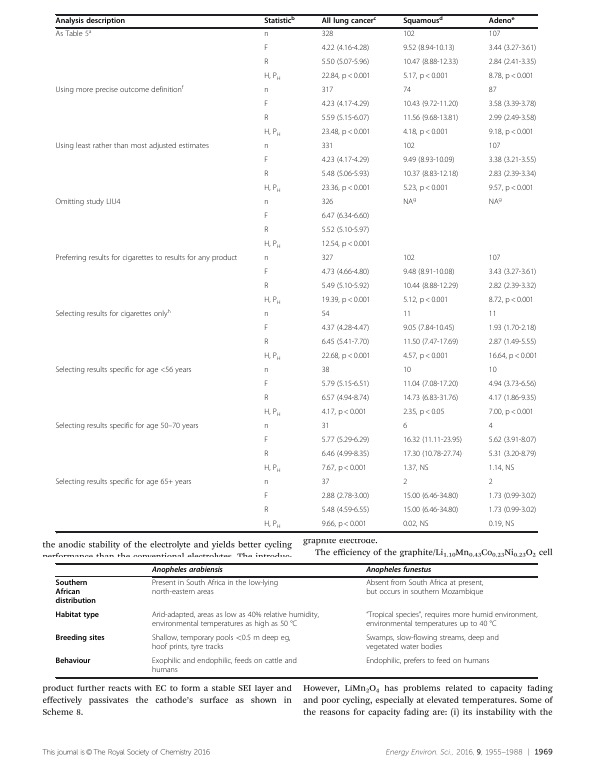borderless: (54, 13, 537, 531), (54, 562, 537, 677)
cell: (365, 611, 538, 630), (151, 611, 320, 630), (151, 657, 298, 676), (151, 634, 291, 653), (365, 634, 500, 653), (151, 579, 279, 598), (365, 579, 484, 598), (55, 254, 238, 264), (55, 142, 210, 152), (55, 84, 184, 96), (55, 422, 199, 432), (55, 308, 172, 320), (55, 366, 192, 376), (55, 478, 192, 488), (365, 657, 490, 667), (54, 579, 97, 607), (55, 198, 121, 208), (151, 566, 224, 575), (55, 17, 126, 26), (321, 15, 377, 26), (402, 436, 463, 446), (402, 450, 463, 460), (365, 566, 432, 575), (402, 58, 459, 68), (402, 100, 459, 110), (402, 114, 459, 124), (402, 170, 459, 180), (402, 282, 459, 292), (402, 338, 459, 348), (402, 380, 459, 390), (402, 394, 459, 404), (402, 492, 459, 502), (402, 506, 459, 516), (402, 44, 455, 54), (402, 156, 455, 166), (402, 268, 455, 278), (402, 324, 455, 334), (54, 634, 106, 644), (321, 72, 371, 82), (321, 128, 371, 138), (321, 184, 371, 194), (321, 240, 371, 250), (321, 296, 371, 306), (321, 352, 371, 362), (488, 352, 538, 362), (321, 44, 370, 54), (488, 44, 537, 54), (321, 58, 370, 68), (488, 58, 537, 68), (321, 100, 370, 110), (488, 100, 537, 110), (321, 114, 370, 124), (488, 114, 537, 124), (321, 156, 370, 166), (488, 156, 537, 166), (321, 170, 370, 180), (488, 170, 537, 180), (321, 212, 370, 222), (321, 226, 370, 236), (321, 268, 370, 278), (488, 268, 537, 278), (321, 282, 370, 292), (488, 282, 537, 292), (321, 324, 370, 334), (488, 324, 537, 334), (321, 338, 370, 348), (488, 338, 537, 348), (321, 380, 370, 390), (488, 380, 537, 390), (321, 394, 370, 404), (488, 394, 537, 404), (321, 436, 370, 446), (488, 436, 537, 446), (321, 450, 370, 460), (488, 450, 537, 460), (321, 492, 370, 502), (488, 492, 537, 502), (321, 506, 370, 516), (488, 506, 537, 516), (402, 72, 449, 82), (488, 72, 535, 82), (402, 128, 449, 138), (488, 128, 535, 138), (402, 184, 449, 194), (488, 184, 535, 194), (402, 296, 449, 306), (488, 296, 535, 306), (402, 352, 449, 362), (321, 408, 368, 418), (488, 408, 535, 418), (321, 464, 368, 474), (321, 520, 368, 530), (402, 15, 444, 26), (54, 611, 100, 621), (55, 28, 92, 40), (402, 408, 445, 418), (54, 657, 91, 667), (263, 15, 296, 26), (488, 15, 515, 26), (402, 464, 429, 474), (488, 464, 515, 474), (402, 520, 429, 530), (488, 520, 515, 530), (263, 72, 282, 82), (263, 128, 282, 138), (263, 184, 282, 194), (263, 240, 282, 250), (263, 296, 282, 306), (263, 352, 282, 362), (263, 408, 282, 418), (263, 464, 282, 474), (263, 520, 282, 530), (402, 196, 417, 208), (488, 196, 503, 208), (402, 30, 416, 40), (402, 142, 416, 152), (402, 254, 416, 264), (321, 30, 334, 40), (488, 30, 501, 40), (321, 86, 334, 96), (321, 142, 334, 152), (488, 142, 501, 152), (321, 198, 334, 208), (321, 254, 334, 264), (488, 254, 501, 264), (402, 86, 412, 96), (402, 310, 412, 320), (402, 366, 412, 376), (488, 86, 497, 96), (321, 310, 330, 320), (488, 310, 497, 320), (321, 366, 330, 376), (488, 366, 497, 376), (321, 422, 330, 432), (321, 478, 330, 488), (263, 30, 269, 40), (263, 44, 269, 54), (263, 58, 269, 68), (263, 86, 269, 96), (263, 100, 269, 110), (263, 114, 269, 124), (263, 142, 269, 152), (263, 156, 269, 166), (263, 170, 269, 180), (263, 198, 269, 208), (263, 212, 269, 222), (263, 226, 269, 236), (263, 254, 269, 264), (263, 268, 269, 278), (263, 282, 269, 292), (263, 310, 269, 320), (263, 324, 269, 334), (263, 338, 269, 348), (263, 366, 269, 376), (263, 380, 269, 390), (263, 394, 269, 404), (263, 422, 269, 432), (402, 422, 408, 432), (488, 422, 494, 432), (263, 436, 269, 446), (263, 450, 269, 460), (263, 478, 269, 488), (402, 478, 408, 488), (488, 478, 494, 488), (263, 492, 269, 502), (263, 506, 269, 516)
